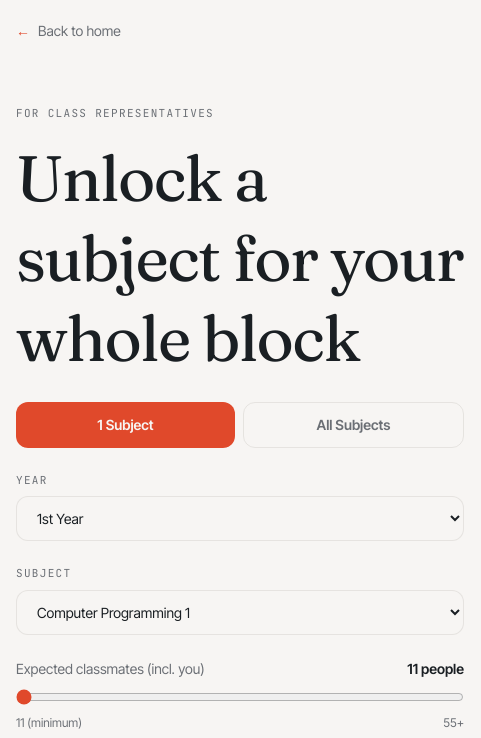
Test: ForBlocksCheckout › disables Pay when scope='subject' and the year has no subjects
Select "2nd Year" in the dropdown labelled "Year" at (240, 518), box left=16, top=496, right=464, bottom=541
(page scrolled)
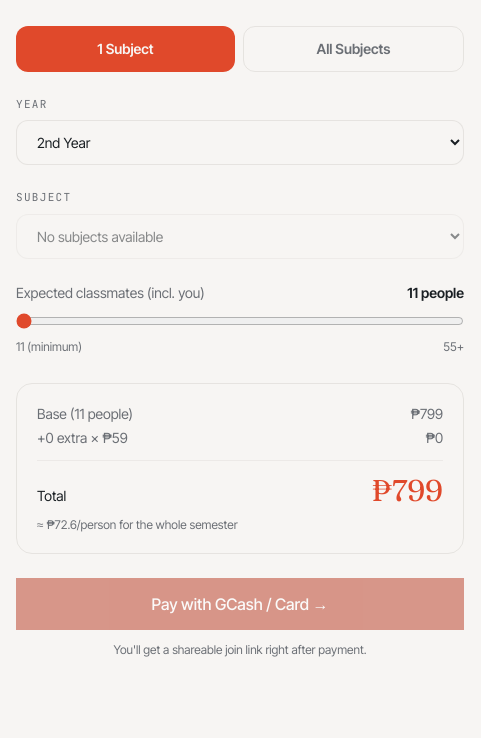
Expected: the button "Pay with GCash / Card →" is disabled, left=16, top=578, right=464, bottom=630
